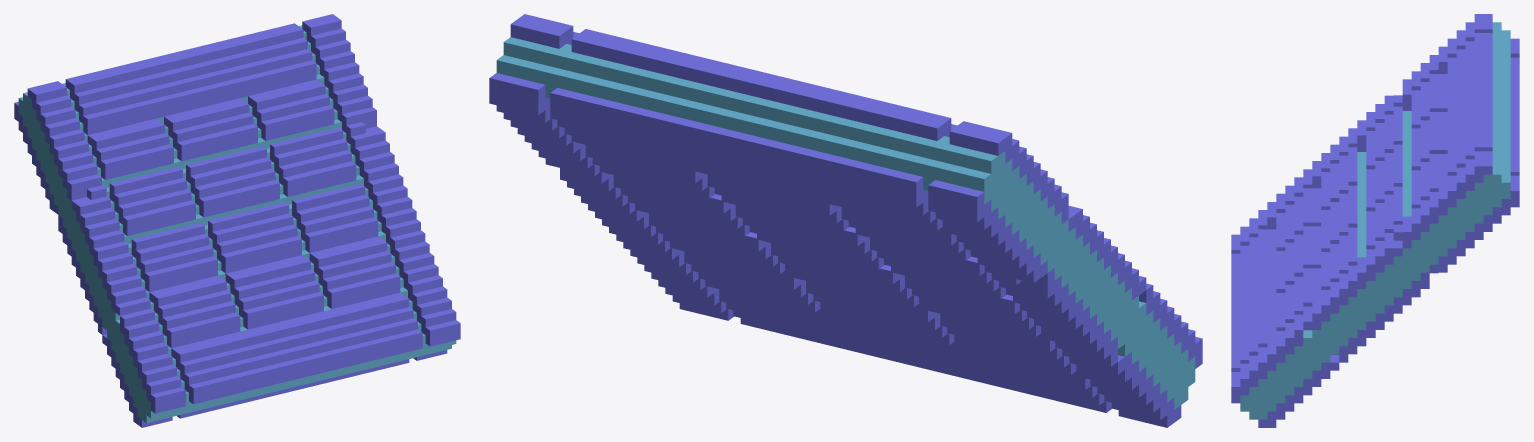
File: celing_angle_norm.obj
3 renders of one model, left to right at view 1: azimuth 30°, elevation 25°; view 2: azimuth 150°, elevation 25°; view 3: azimuth 270°, elevation 25°, orthographic. The views are drawn at different scales.
Size of the model in its own units: 4 by 3.2 by 3.2.
1 material, 1 textured.
